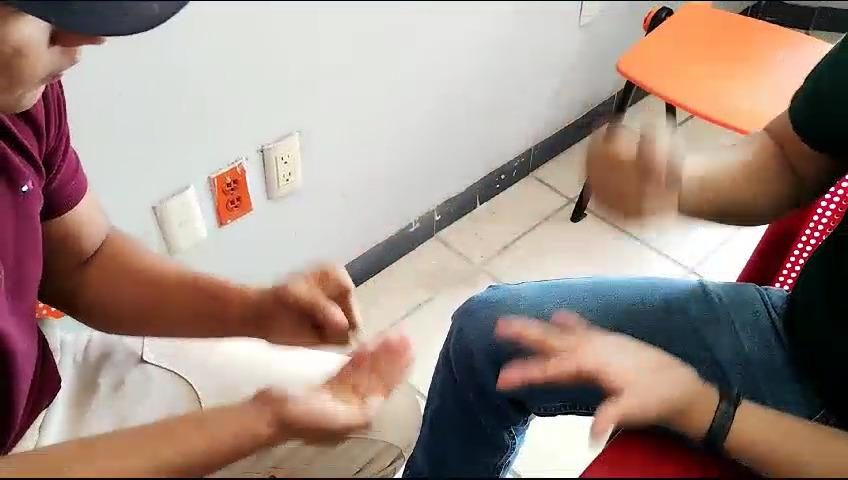Stone: (249, 259, 375, 361)
